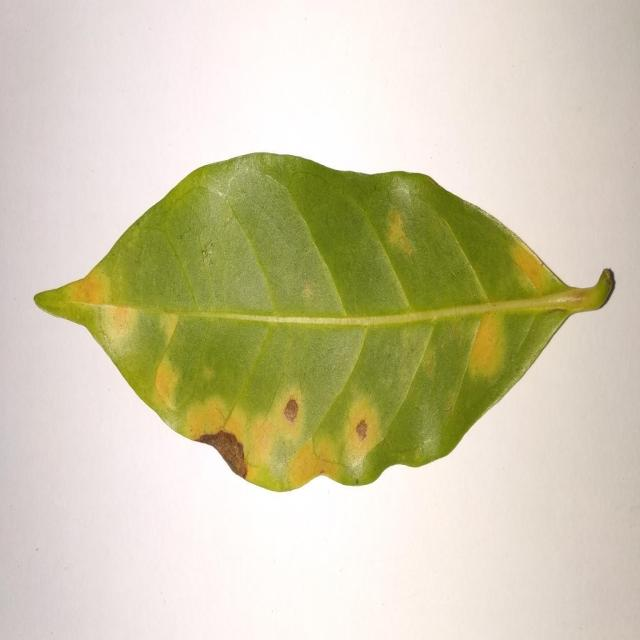rust: (49, 266, 139, 351), (184, 401, 254, 482), (386, 184, 424, 260), (343, 395, 383, 462), (268, 385, 307, 437), (155, 347, 189, 406)
